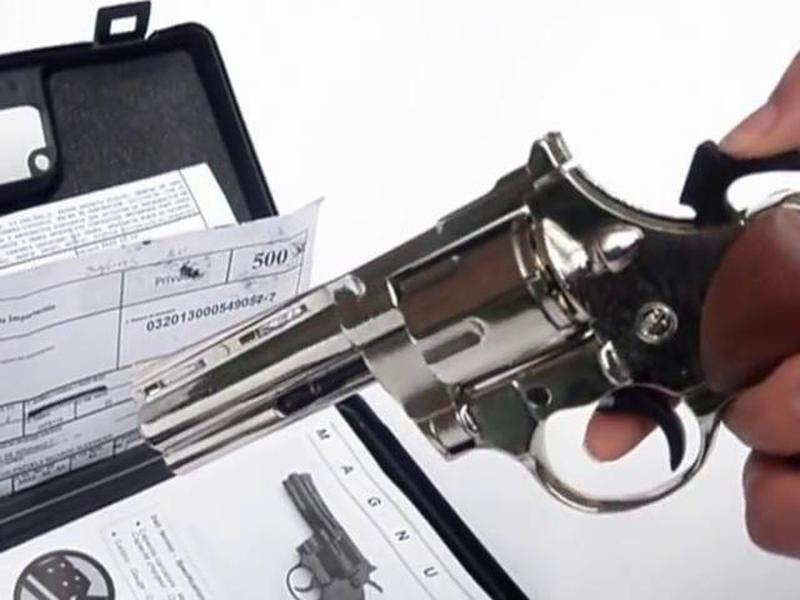Revolver: (104, 126, 800, 509)
